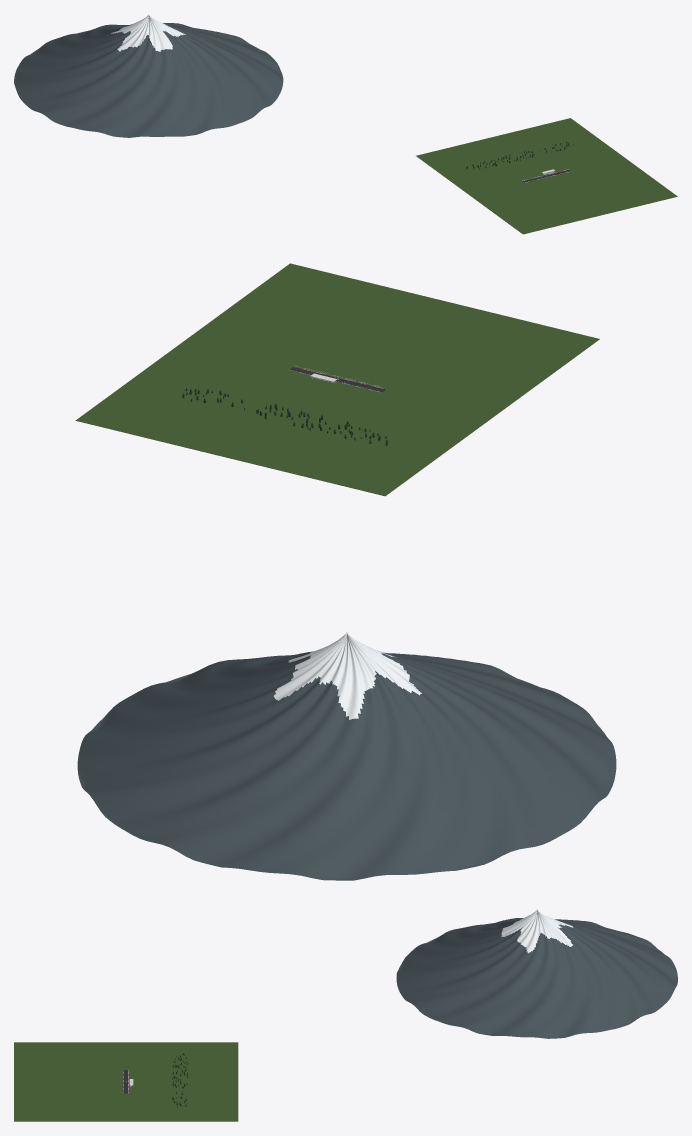
File: FujiA1-realistic.fbx
3 renders of one model, top to bottom at view 1: azimuth 30°, elevation 25°; view 2: azimuth 150°, elevation 25°; view 3: azimuth 270°, elevation 25°, orthographic. The views are drawn at different scales.
Parts seen in each view (by area): view 1: Fuji / Volcanic mountain, Fuji / Grass terrain; view 2: Fuji / Volcanic mountain, Fuji / Grass terrain; view 3: Fuji / Volcanic mountain, Fuji / Grass terrain.
Part boxes in pixels (bbox=[...]): Fuji / Volcanic mountain: bbox=[14, 14, 283, 137]; Fuji / Grass terrain: bbox=[416, 118, 677, 234]; Fuji / Volcanic mountain: bbox=[77, 632, 616, 880]; Fuji / Grass terrain: bbox=[75, 263, 599, 496]; Fuji / Volcanic mountain: bbox=[396, 909, 677, 1038]; Fuji / Grass terrain: bbox=[14, 1042, 238, 1121].
Bounding box in the file's own units: 127660 × 20703 × 177660.
